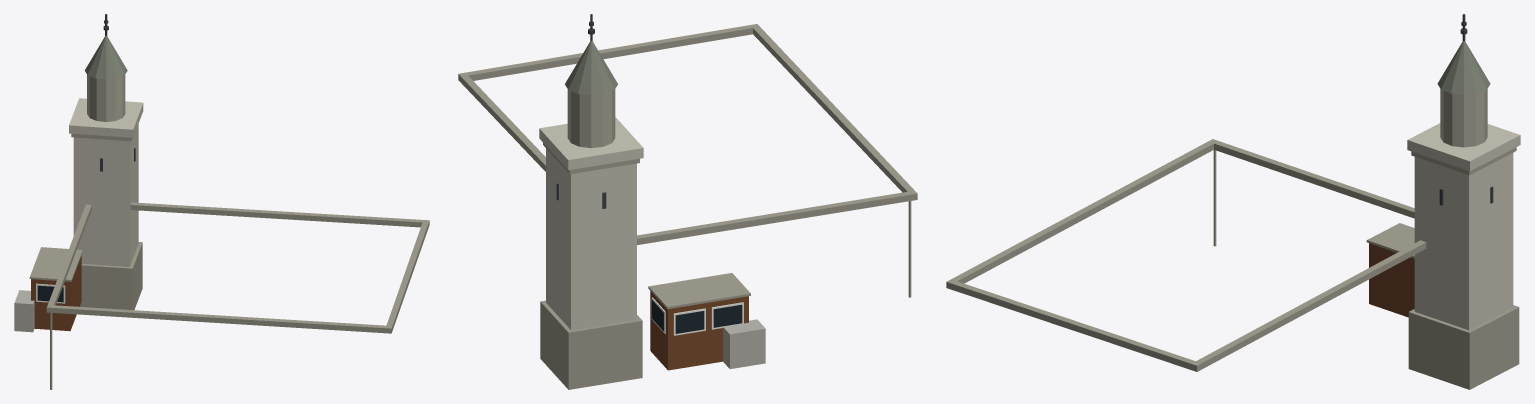
Rendered from mescit.glb.
The picture shows the model from 3 angles, left to right: view 1: azimuth 30°, elevation 25°; view 2: azimuth 150°, elevation 25°; view 3: azimuth 270°, elevation 25°; orthographic projection. The views are drawn at different scales.
Parts seen in each view (by area): view 1: mescit; view 2: mescit; view 3: mescit.
Boxes of the visible parts, box(x1,y1,x2,y2) form: mescit: box(14, 14, 429, 389); mescit: box(458, 14, 917, 389); mescit: box(946, 14, 1520, 389).
Bounding box in the file's own units: 21.77 × 15.75 × 23.28.
